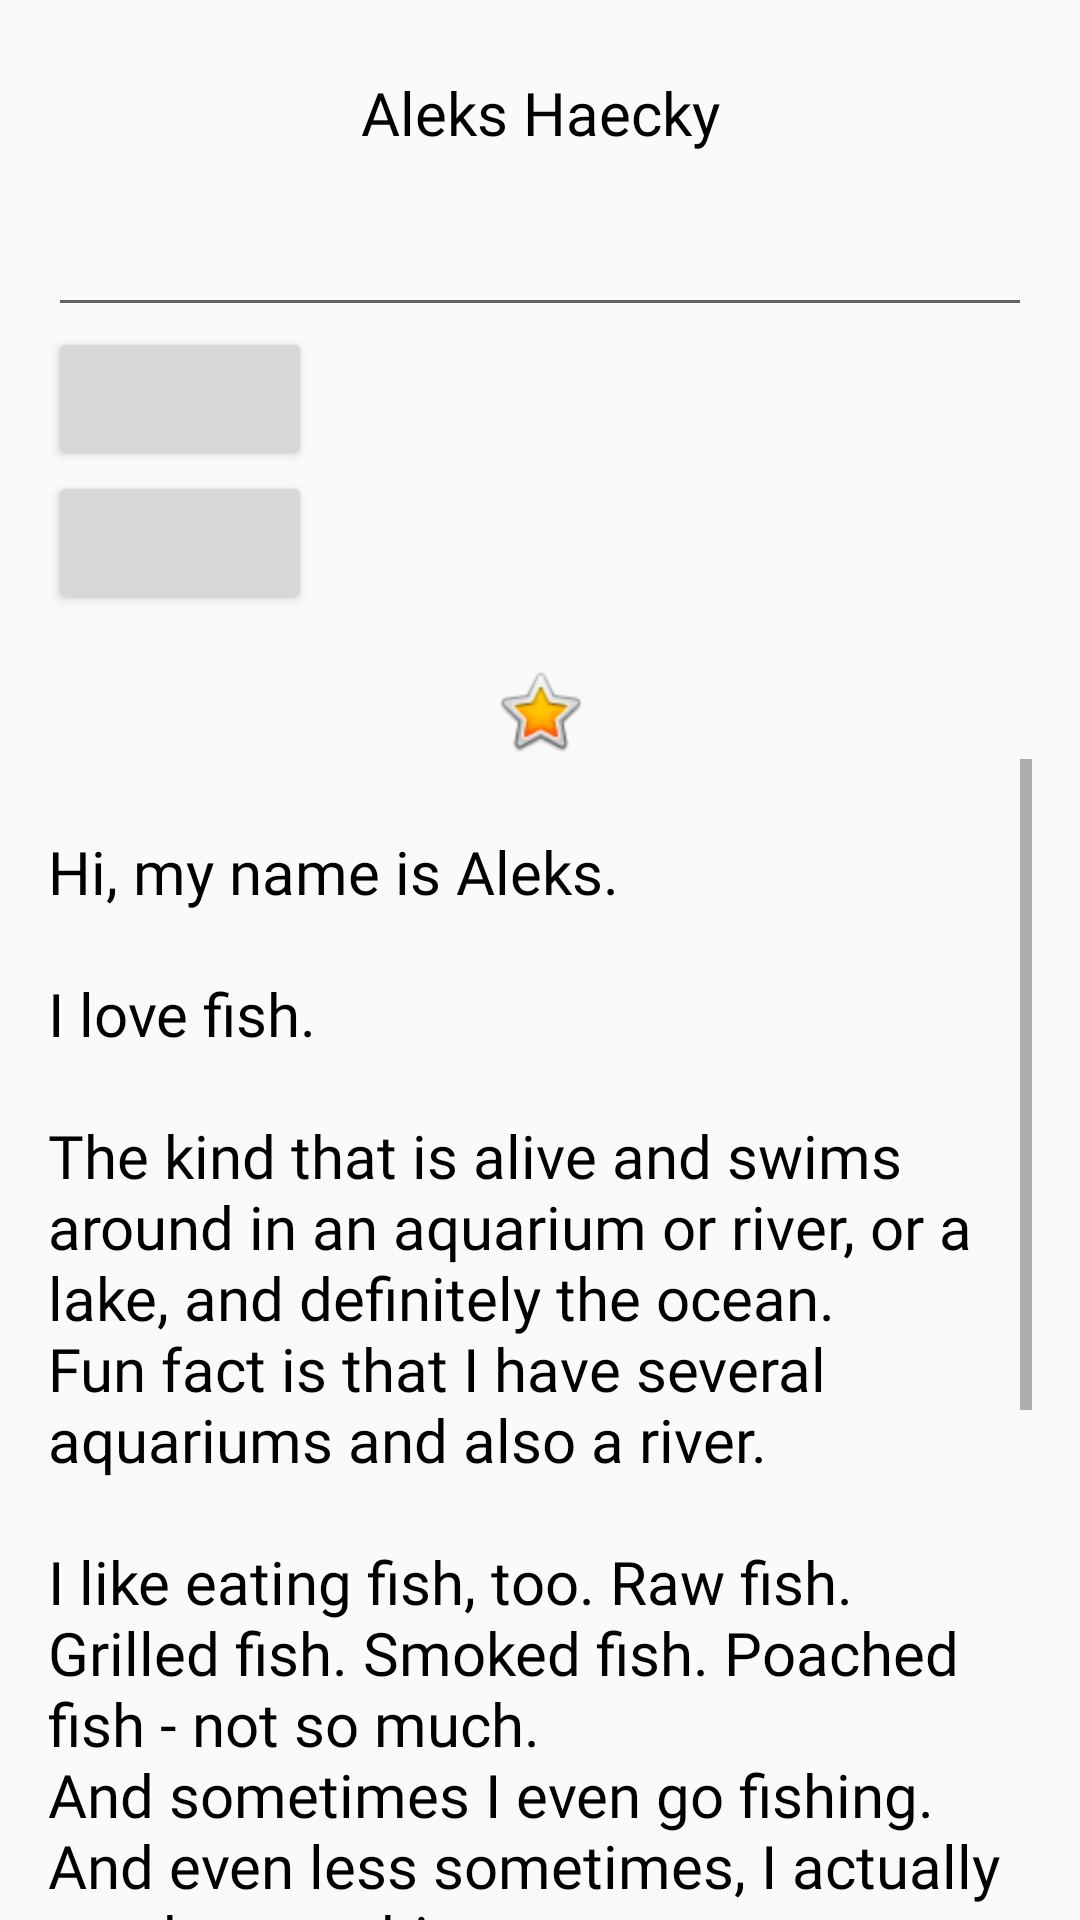

Named icons in this screenshot (1080x1920) and their centers, point (x, y):
Yello star: point (541, 712)
